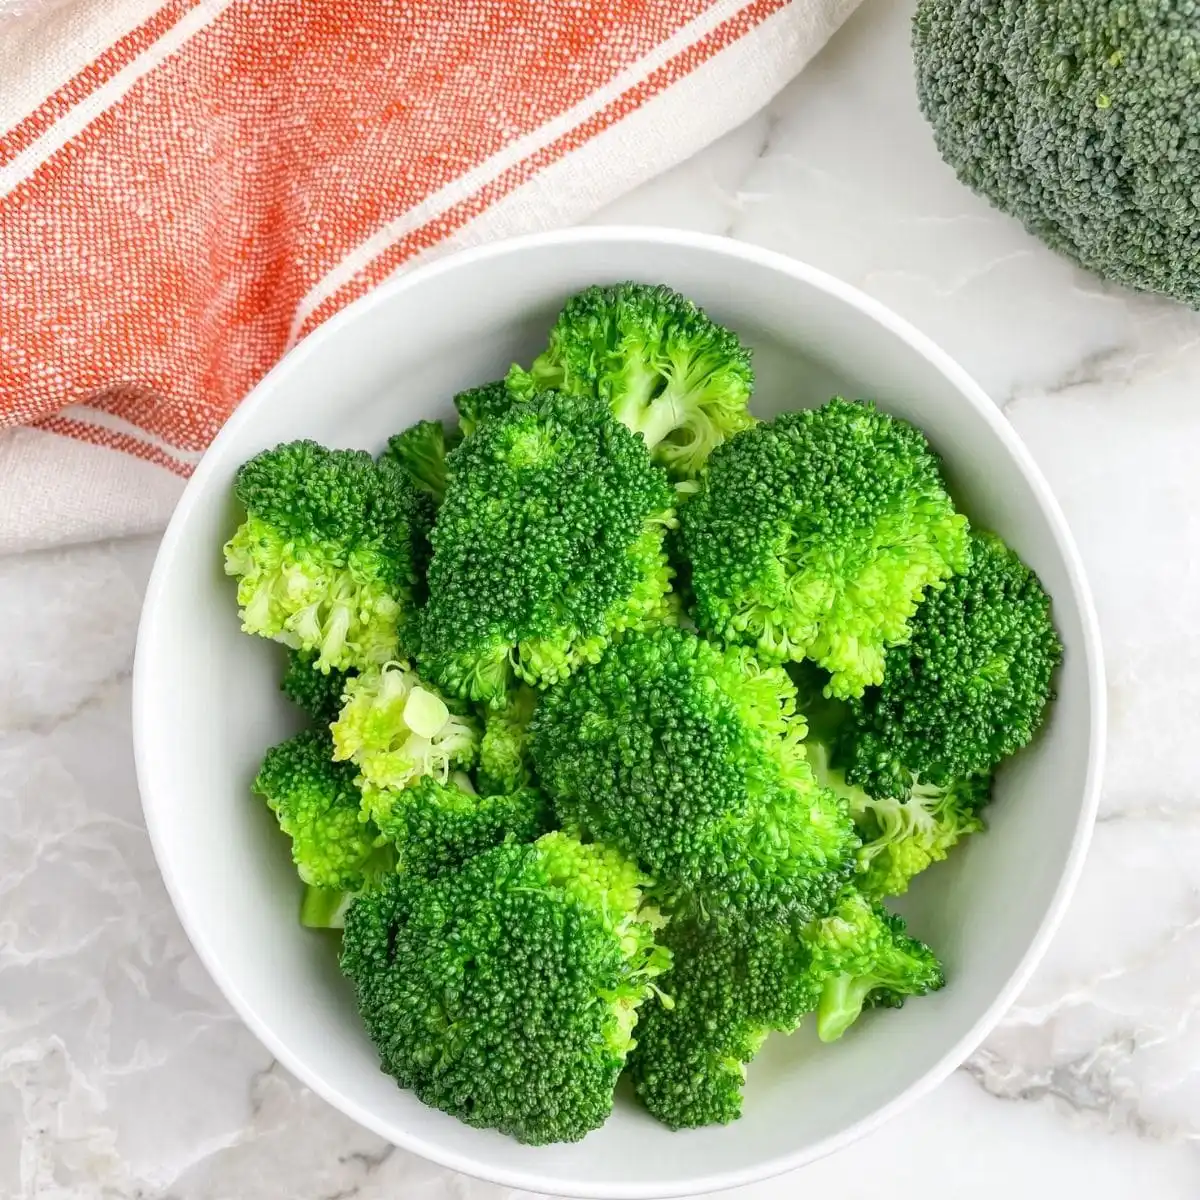broccoli: (226, 285, 1062, 1146)
